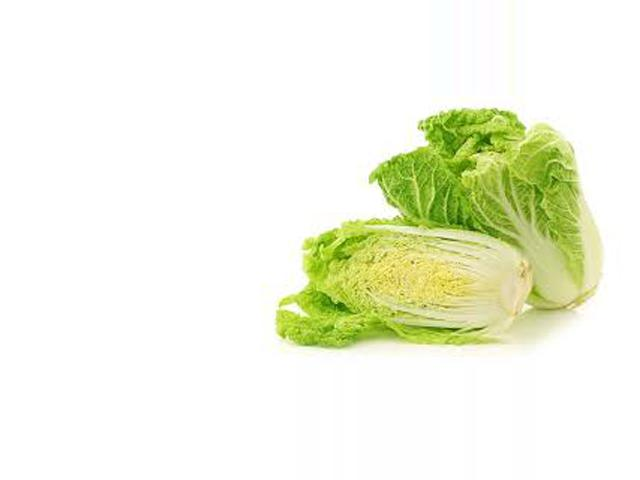lettuce: (355, 97, 606, 324)
